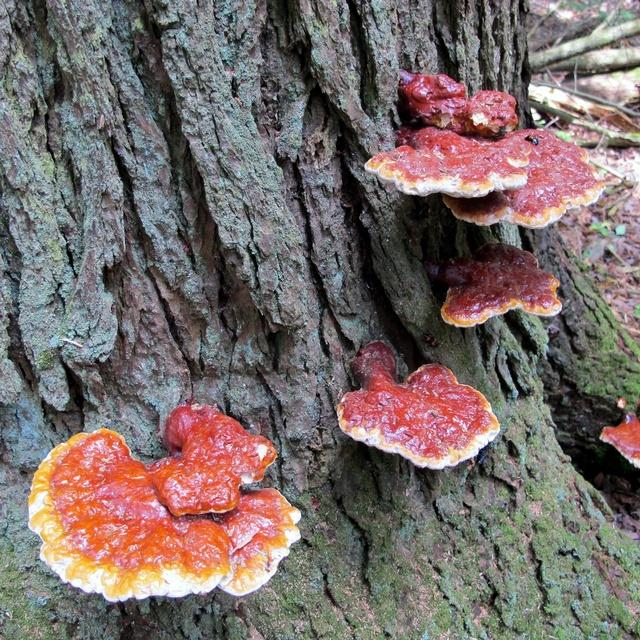poisonous_mushroom: (373, 64, 602, 326), (26, 401, 302, 603), (335, 339, 500, 470)
